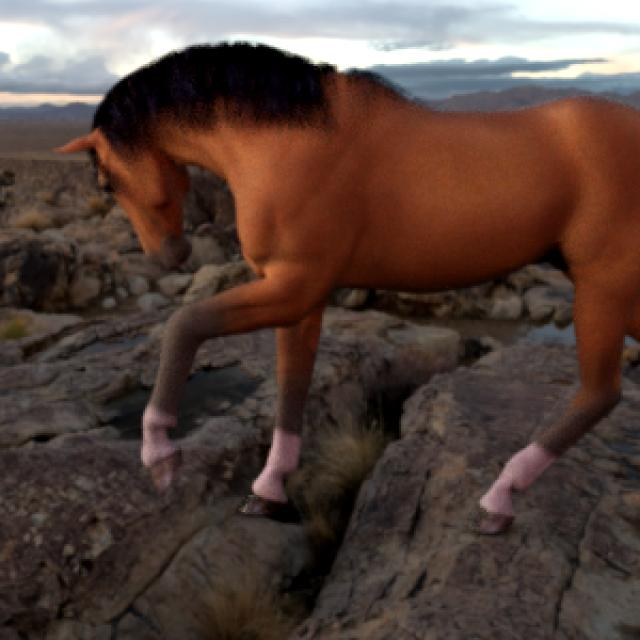horse: (61, 42, 640, 533)
